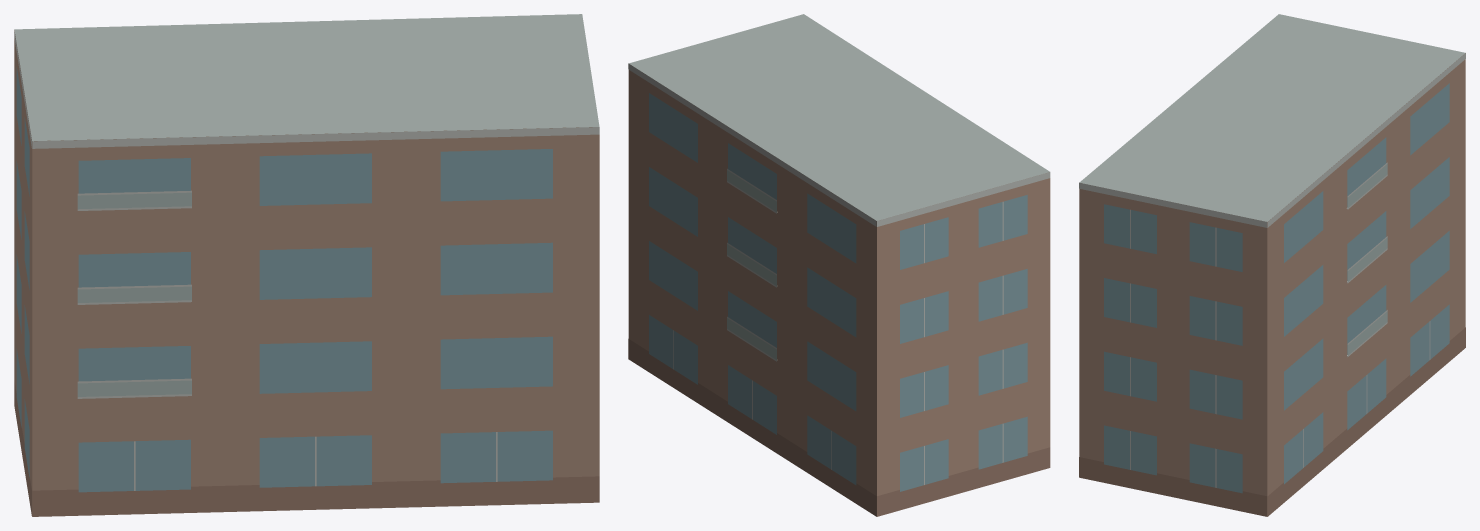
Rendered from survey-upis-32842926.glb.
3 renders of one model, left to right at view 1: azimuth 30°, elevation 25°; view 2: azimuth 150°, elevation 25°; view 3: azimuth 270°, elevation 25°, orthographic. The views are drawn at different scales.
Visible parts, largest first — view 1: survey-upis-32842926.tmp; view 2: survey-upis-32842926.tmp; view 3: survey-upis-32842926.tmp.
Boxes of the visible parts, left/top/right/bottom form: survey-upis-32842926.tmp: left=14, top=14, right=599, bottom=516; survey-upis-32842926.tmp: left=628, top=14, right=1050, bottom=516; survey-upis-32842926.tmp: left=1079, top=14, right=1465, bottom=516.
Size of the model in its own units: 17.93 by 11.85 by 14.09.
